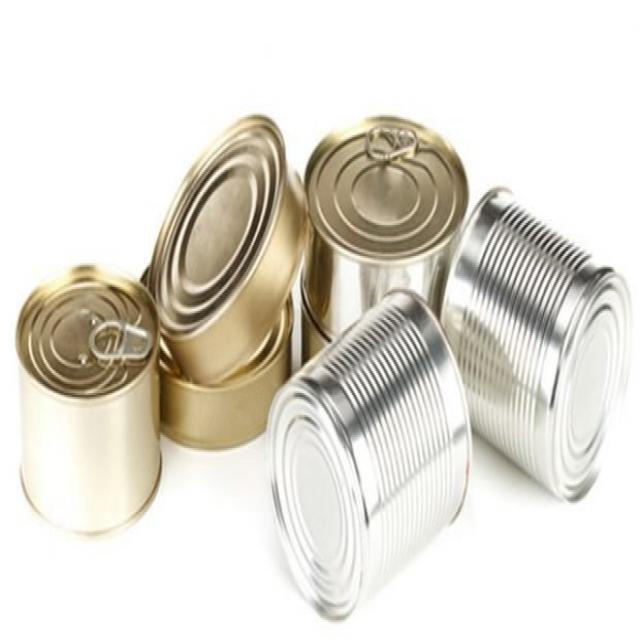Lata: (262, 298, 470, 622), (442, 183, 630, 505), (147, 108, 309, 384), (15, 260, 162, 528), (297, 117, 465, 344)
